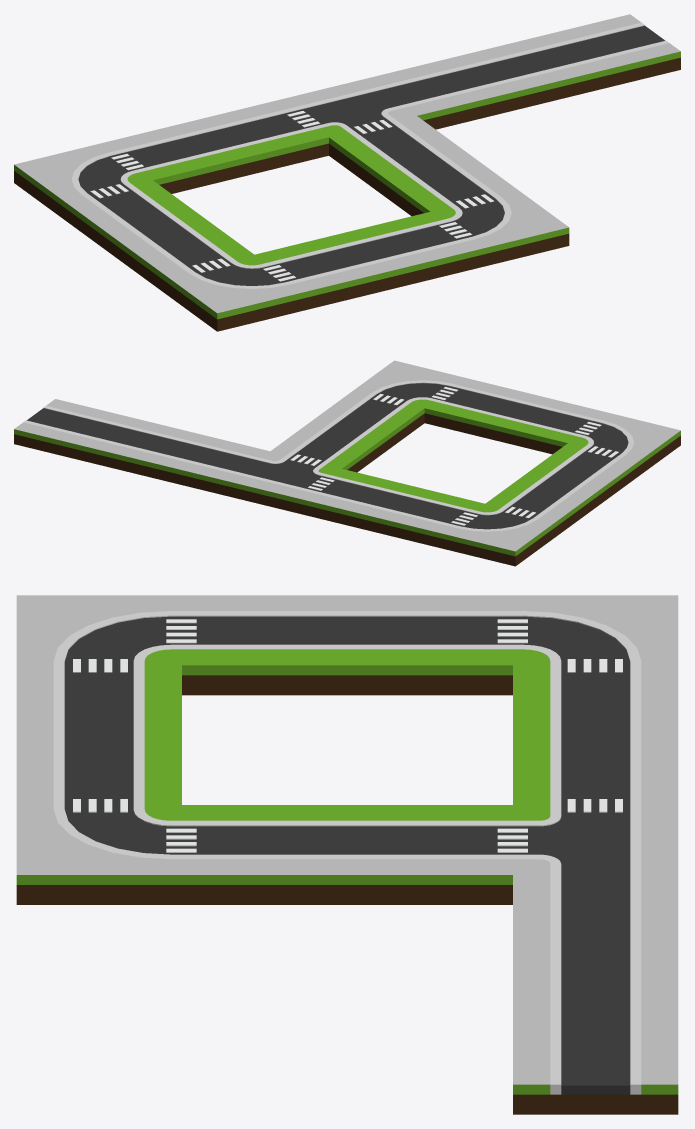
The model's file is Duong.fbx.
3 views of the same model, one above another, from view 1: azimuth 30°, elevation 25°; view 2: azimuth 150°, elevation 25°; view 3: azimuth 270°, elevation 25° (orthographic). The views are drawn at different scales.
Visible parts, largest first — view 1: tile_mainroad_curve.001, tile_mainroad_straight.009, tile_mainroad_straight.010, tile_mainroad_straight.007, tile_mainroad_straight.004, tile_mainroad_straight.006, tile_mainroad_curve.002, tile_mainroad_straight.008, tile_mainroad_straight, tile_mainroad_straight.001, tile_mainroad_straight.002, tile_mainroad_straight.003 (+3 smaller); view 2: tile_mainroad_curve, tile_mainroad_straight.009, tile_mainroad_straight.010, tile_mainroad_straight.008, tile_mainroad_straight.006, tile_mainroad_straight.007, tile_mainroad_straight, tile_mainroad_intersection_t, tile_mainroad_straight.004, tile_mainroad_straight.002, tile_mainroad_straight.005, tile_mainroad_straight.001 (+3 smaller); view 3: tile_mainroad_straight.010, tile_mainroad_straight.002, tile_mainroad_straight.001, tile_mainroad_straight.005, tile_mainroad_straight.003, tile_mainroad_curve.002, tile_mainroad_straight.008, tile_mainroad_straight.009, tile_mainroad_straight, tile_mainroad_straight.004, tile_mainroad_curve, tile_mainroad_curve.001 (+3 smaller).
Boxes of the visible parts, x1,y1,x2,y2 form: tile_mainroad_curve.001: [166, 254, 305, 331]; tile_mainroad_straight.009: [454, 36, 592, 112]; tile_mainroad_straight.010: [542, 14, 680, 91]; tile_mainroad_straight.007: [343, 211, 481, 288]; tile_mainroad_straight.004: [255, 233, 393, 310]; tile_mainroad_straight.006: [190, 100, 328, 176]; tile_mainroad_curve.002: [431, 190, 569, 267]; tile_mainroad_straight.008: [366, 57, 504, 129]; tile_mainroad_straight: [102, 121, 240, 193]; tile_mainroad_straight.001: [64, 180, 203, 256]; tile_mainroad_straight.002: [115, 217, 253, 293]; tile_mainroad_straight.003: [329, 116, 466, 192]; tile_mainroad_curve: [444, 503, 556, 566]; tile_mainroad_straight.009: [85, 416, 198, 478]; tile_mainroad_straight.010: [14, 399, 126, 461]; tile_mainroad_straight.008: [157, 434, 269, 496]; tile_mainroad_straight.006: [300, 469, 412, 531]; tile_mainroad_straight.007: [424, 378, 537, 440]; tile_mainroad_straight: [372, 486, 484, 548]; tile_mainroad_intersection_t: [229, 451, 341, 513]; tile_mainroad_straight.004: [496, 395, 608, 454]; tile_mainroad_straight.002: [527, 443, 639, 505]; tile_mainroad_straight.005: [312, 391, 424, 452]; tile_mainroad_straight.001: [485, 473, 598, 535]; tile_mainroad_straight.010: [513, 1014, 678, 1114]; tile_mainroad_straight.002: [182, 595, 347, 695]; tile_mainroad_straight.001: [347, 595, 512, 695]; tile_mainroad_straight.005: [182, 805, 347, 904]; tile_mainroad_straight.003: [347, 805, 512, 904]; tile_mainroad_curve.002: [16, 805, 181, 904]; tile_mainroad_straight.008: [513, 875, 678, 945]; tile_mainroad_straight.009: [513, 945, 678, 1015]; tile_mainroad_straight: [513, 665, 678, 735]; tile_mainroad_straight.004: [16, 665, 181, 735]; tile_mainroad_curve: [513, 595, 678, 666]; tile_mainroad_curve.001: [16, 595, 181, 666].
Bounding box in the file's own units: 4200 × 120 × 2400.
